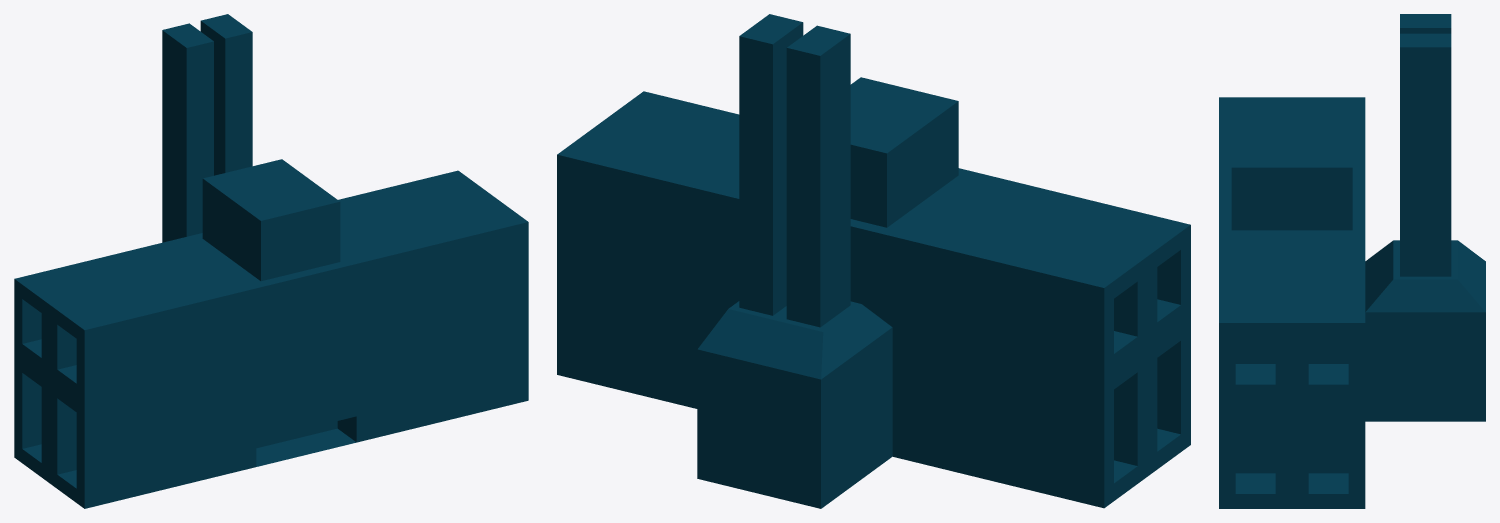
The model's file is experiment-3.gltf.
3 views of the same model, side by side, from view 1: azimuth 30°, elevation 25°; view 2: azimuth 150°, elevation 25°; view 3: azimuth 270°, elevation 25° (orthographic). The views are drawn at different scales.
Visible parts, largest first — view 1: Building; view 2: Building; view 3: Building.
Part boxes in pixels (left/top/right/bottom): Building: left=14, top=14, right=528, bottom=508; Building: left=557, top=14, right=1190, bottom=508; Building: left=1219, top=14, right=1485, bottom=508.
Bounding box in the file's own units: 8.85 × 6.69 × 4.43.
1 material, 1 textured.
